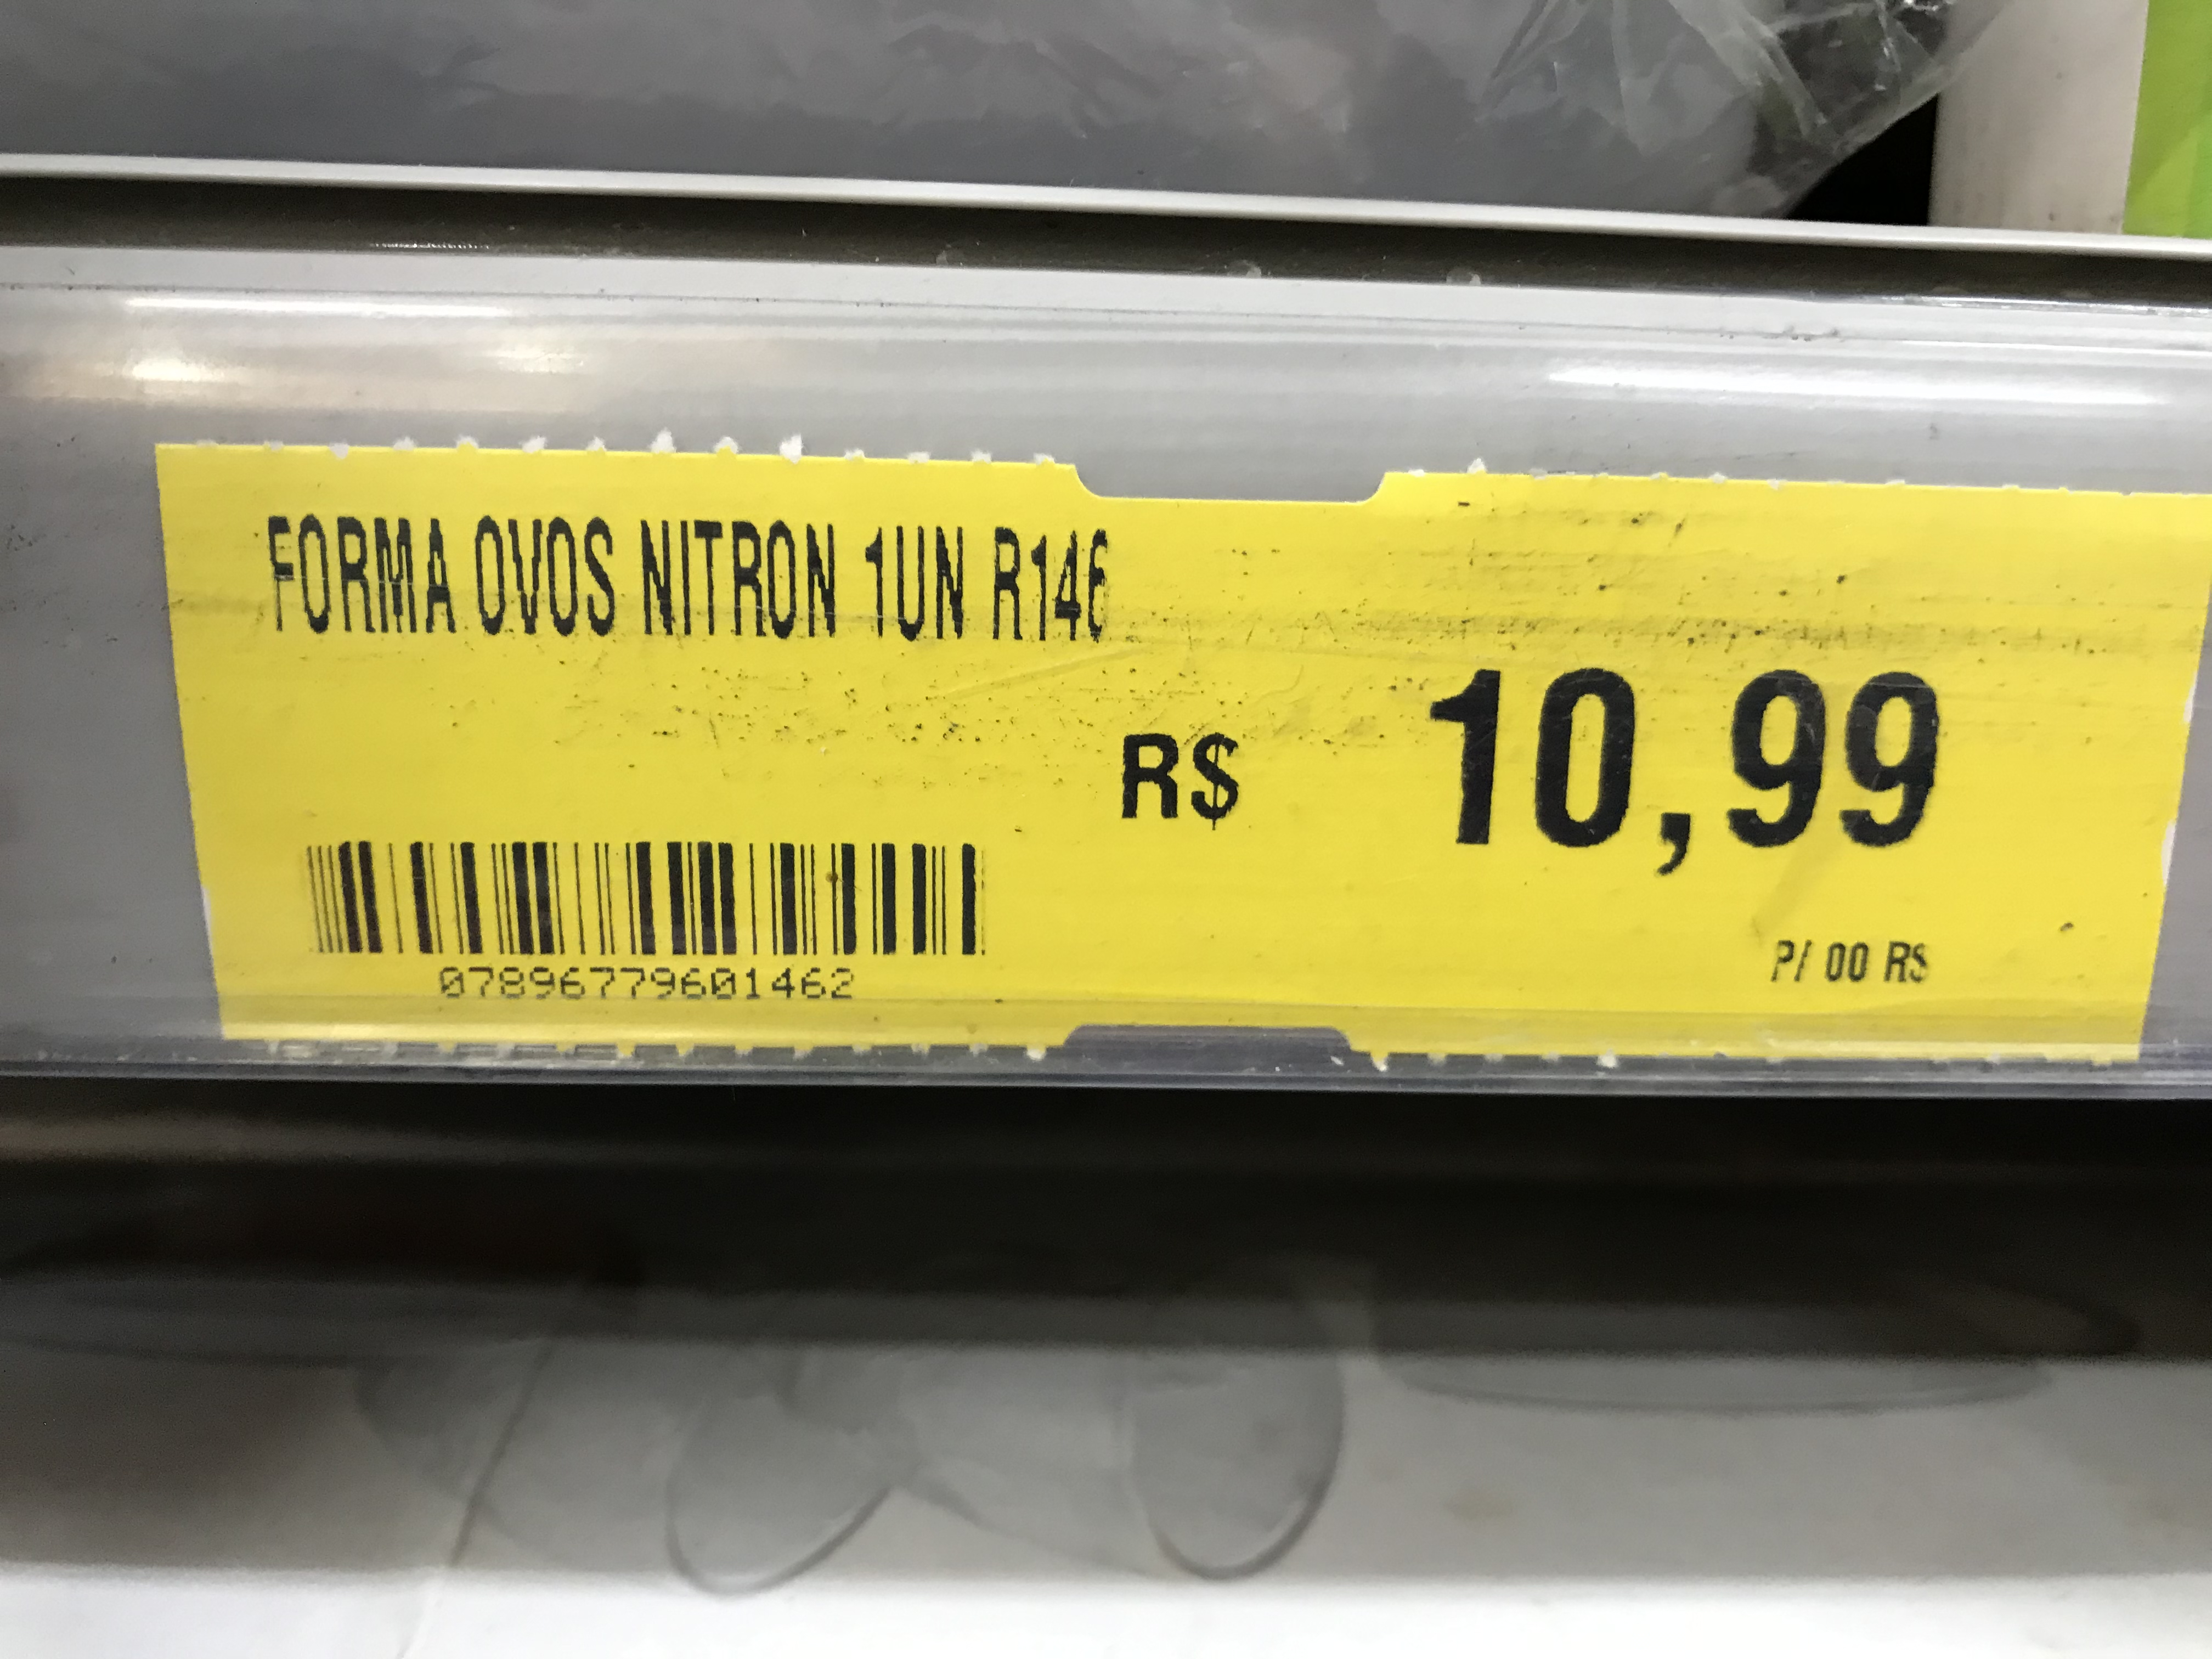estampa: (115, 416, 2212, 1079)
